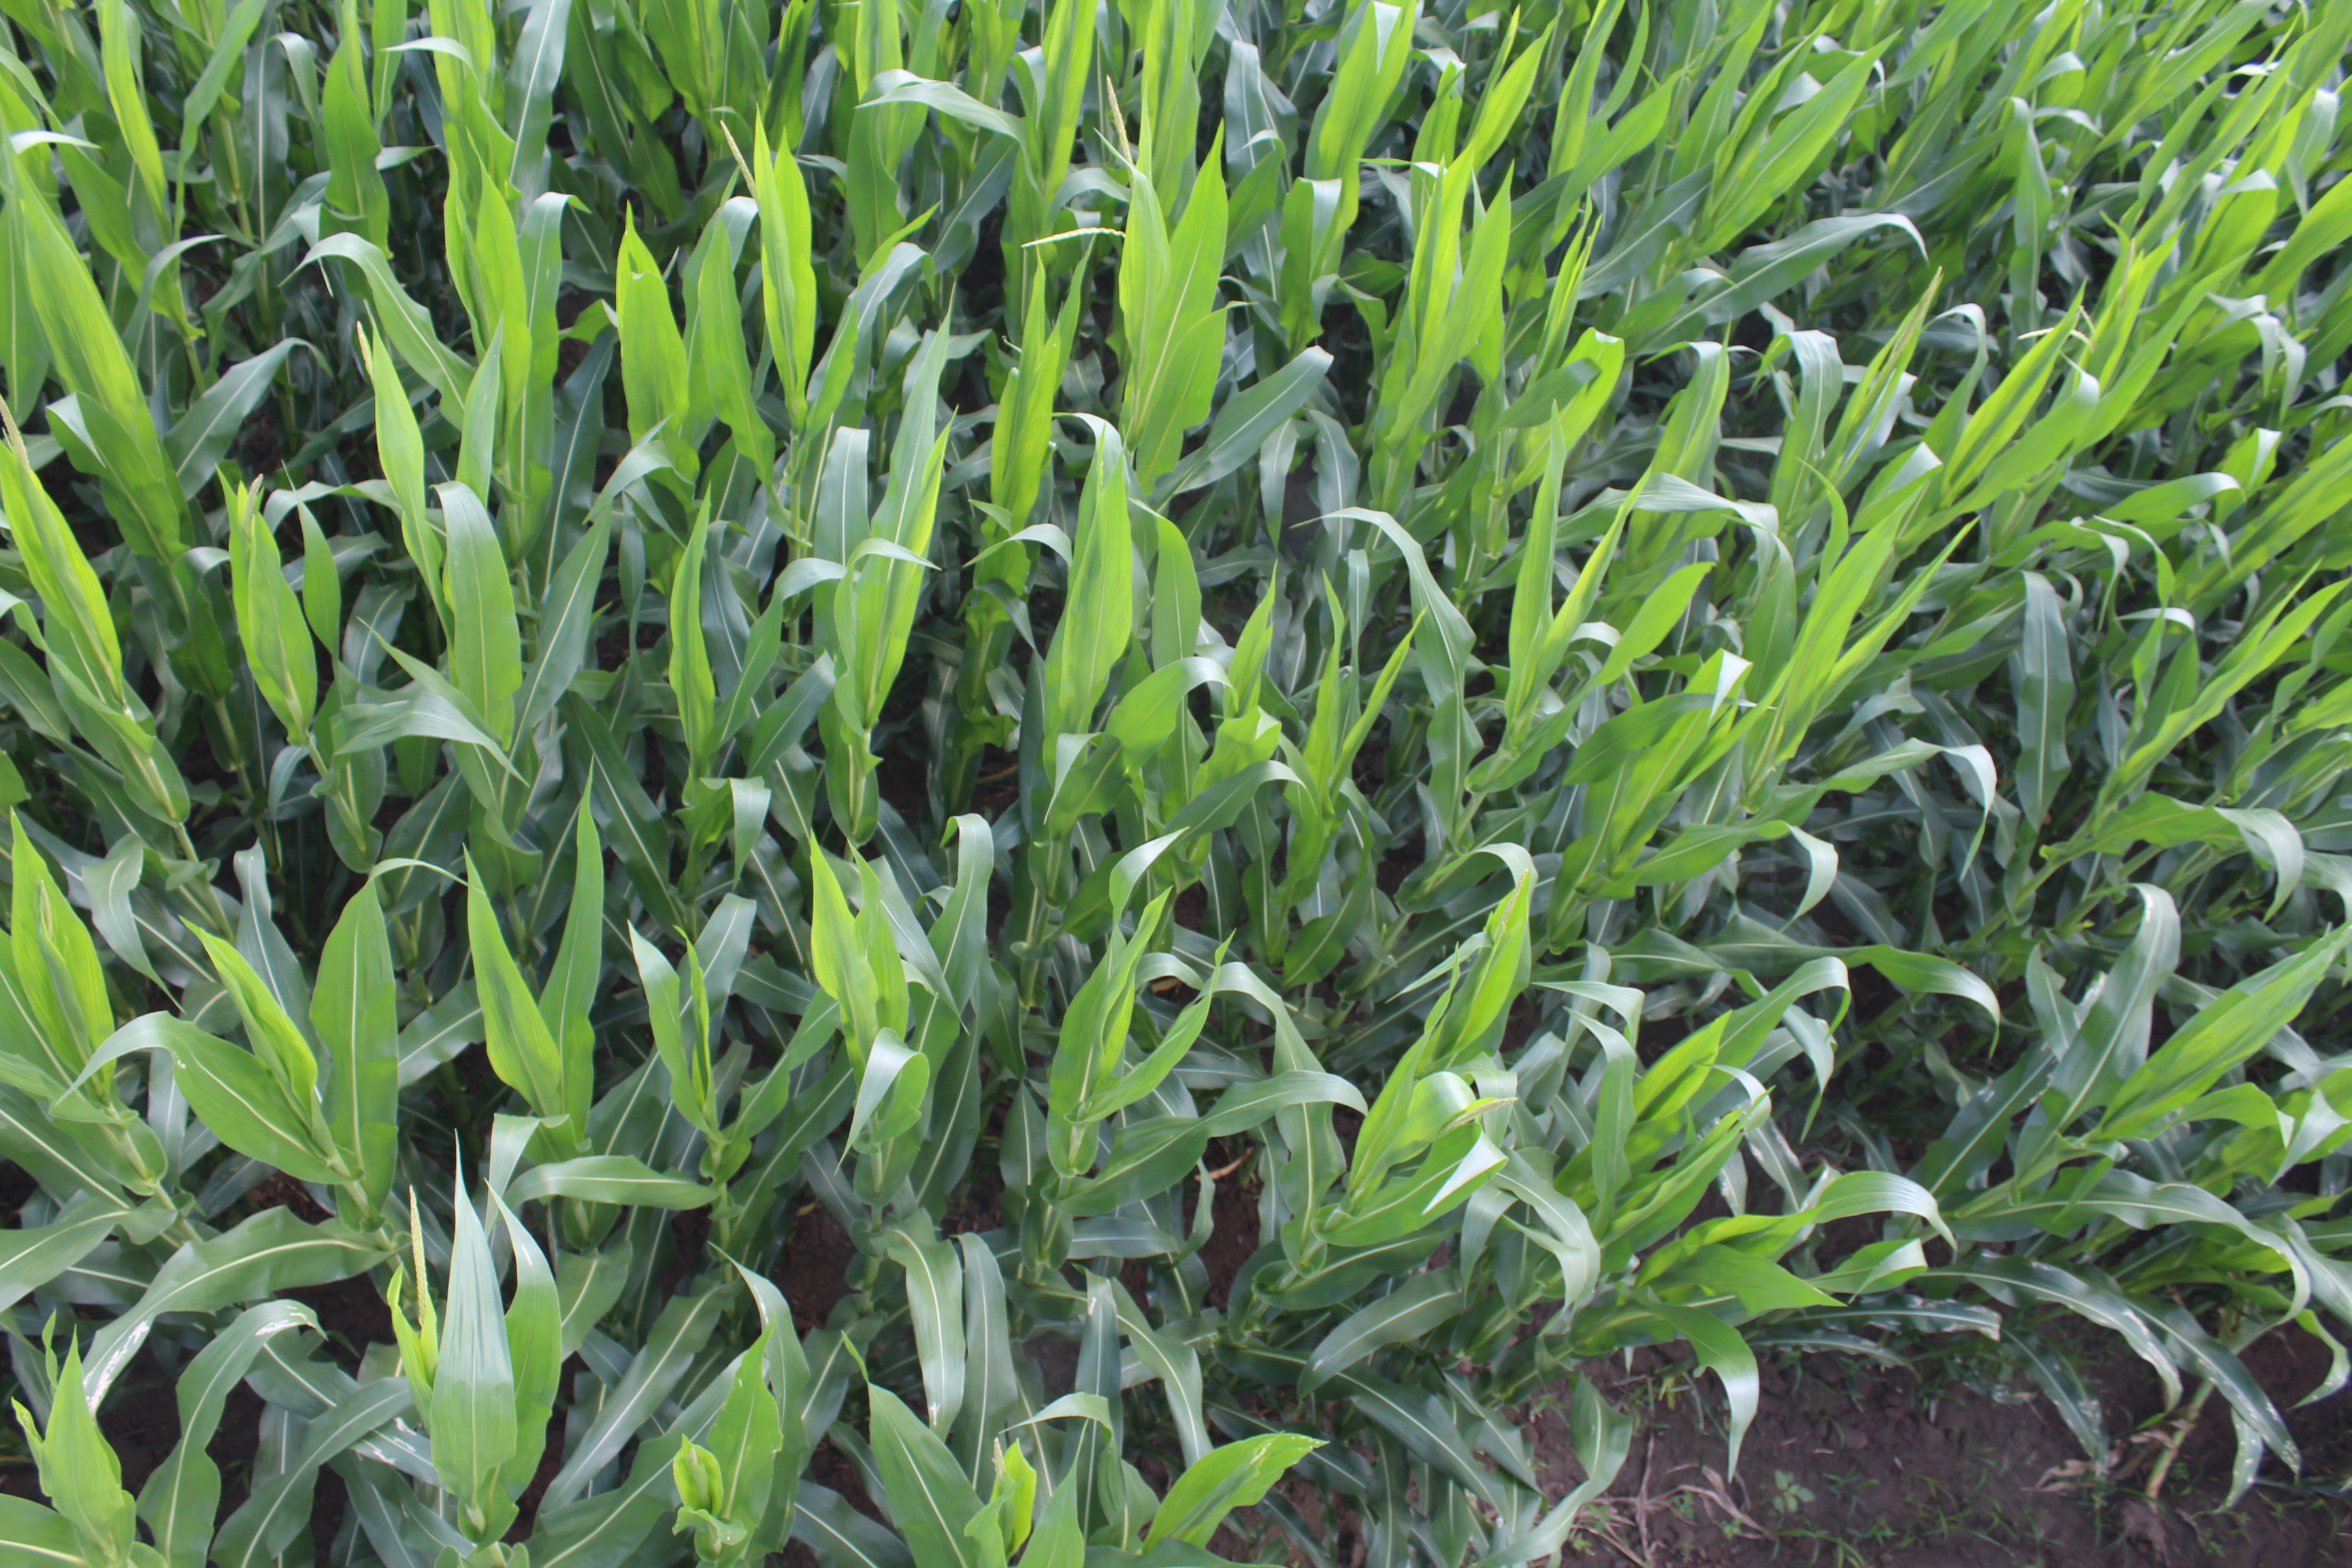Maize: (1012, 72, 1242, 257), (380, 1167, 471, 1367), (700, 107, 802, 249), (203, 464, 299, 597), (0, 389, 65, 508)
